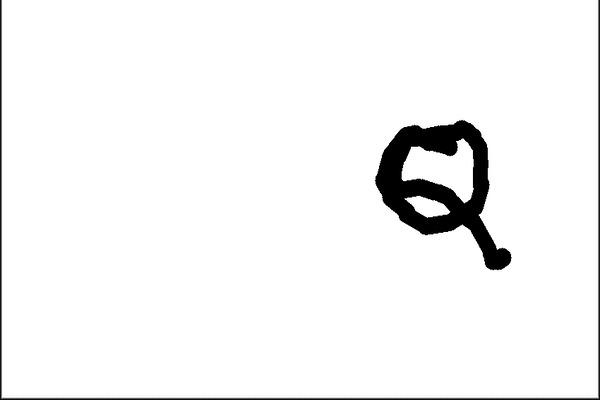Q: (362, 107, 516, 277)
